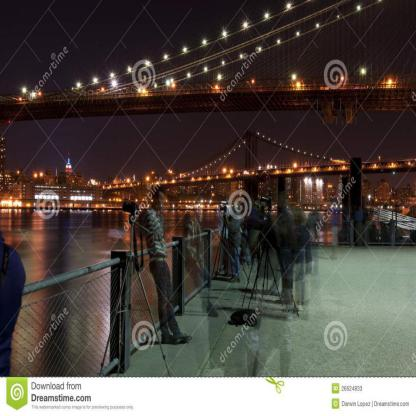face: (159, 193, 165, 210), (198, 212, 204, 222), (267, 192, 270, 198)
